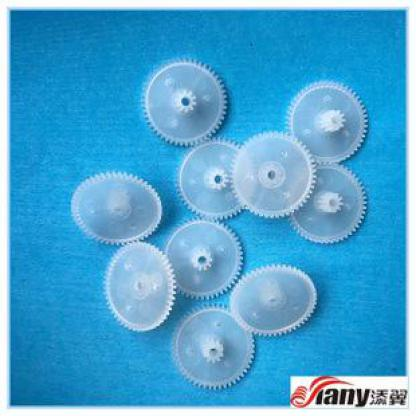FOD: (140, 56, 232, 149), (167, 305, 256, 393), (66, 172, 166, 250)
